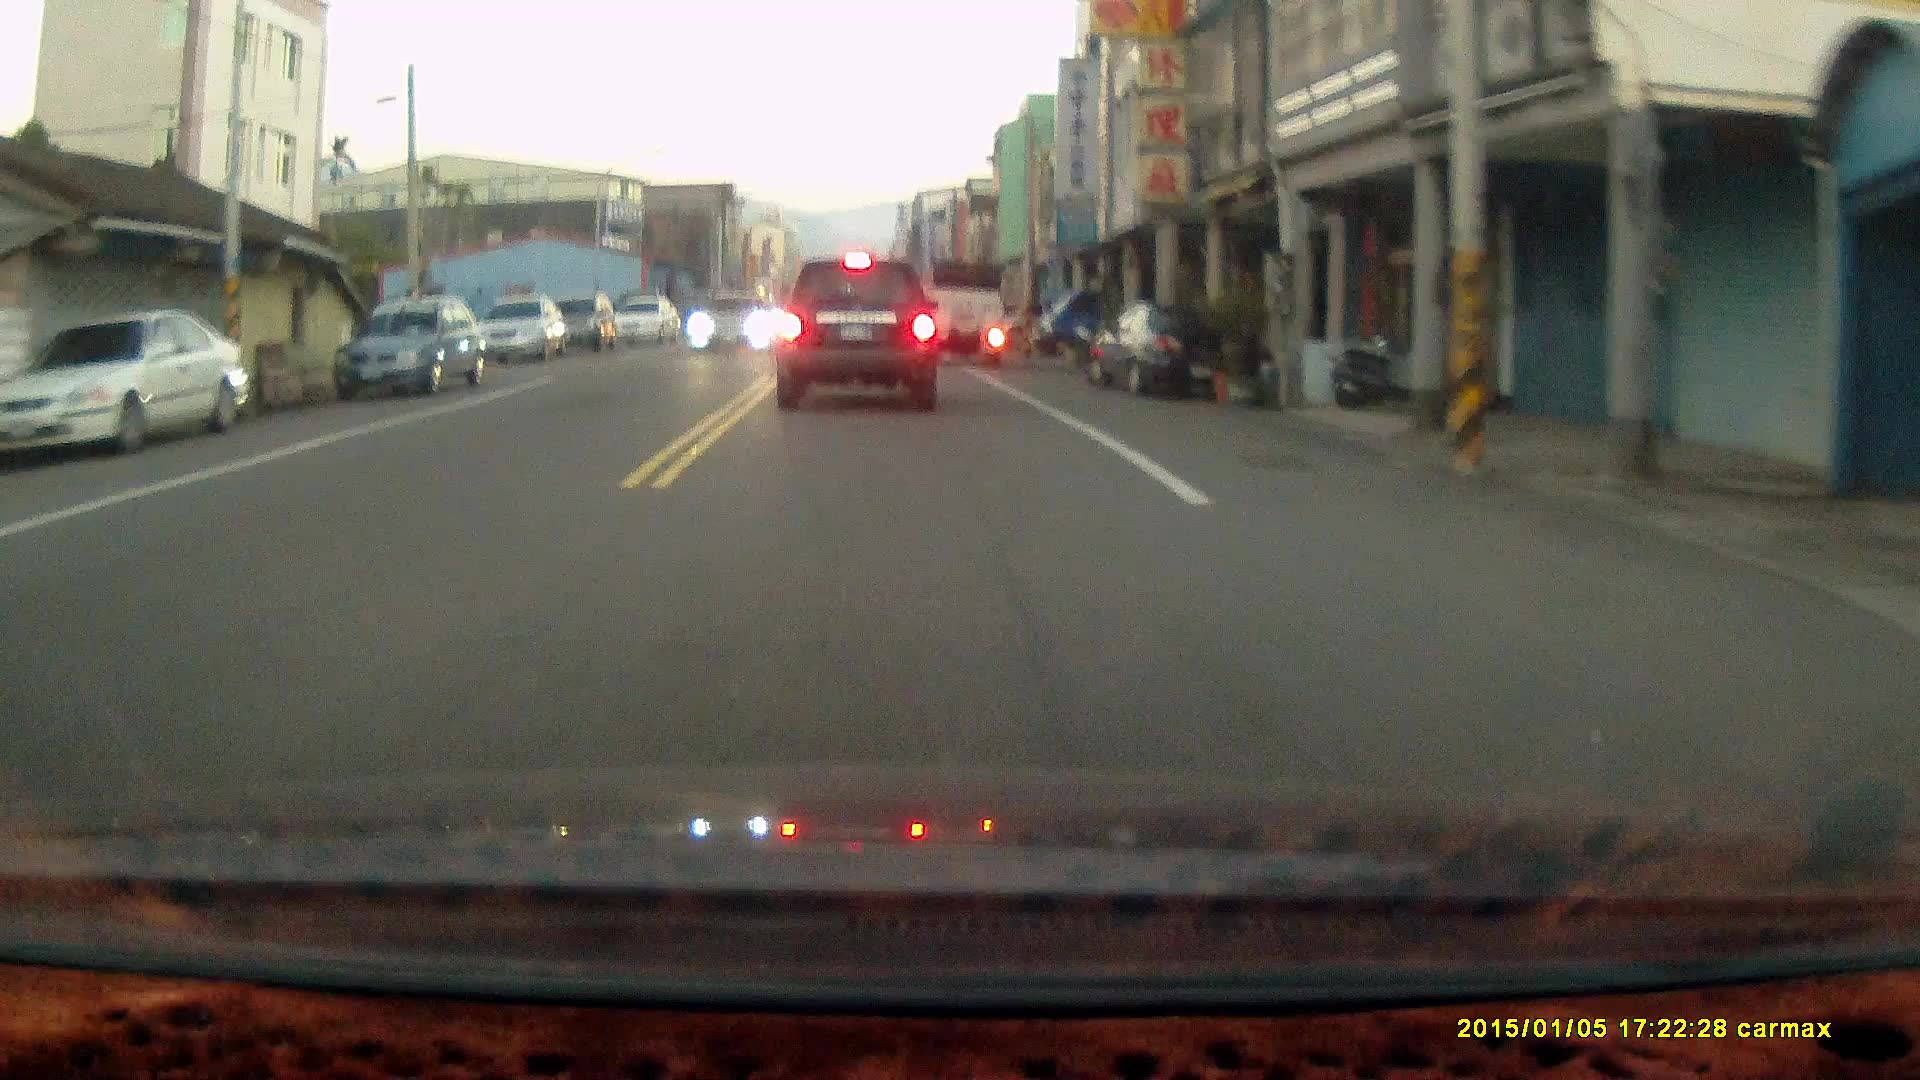vehicle: (1, 310, 253, 458), (775, 255, 939, 411), (1085, 299, 1251, 394), (336, 295, 487, 398), (1035, 280, 1168, 365), (914, 257, 1011, 372), (480, 294, 564, 363), (688, 293, 777, 353), (542, 291, 618, 352), (612, 295, 683, 345)
